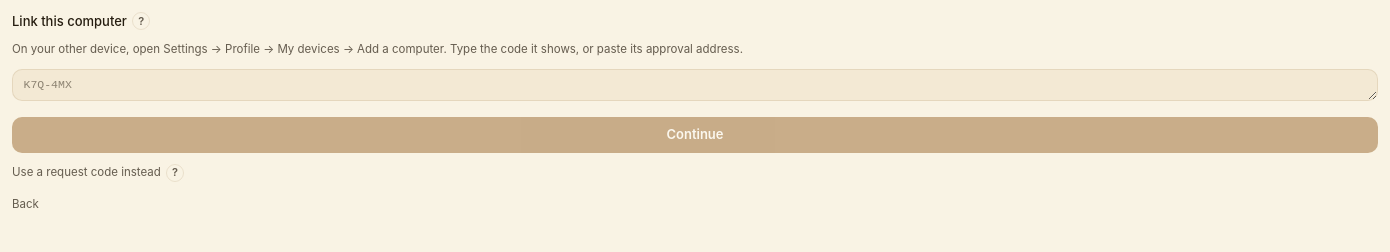
Scenario: LinkThisDevice › links with the short code the other device shows, on the community relay or another
The image size is (1390, 252).
Later steps or results of the test are not shown.
Type "k7q 4mx" into the text box named "The code or approval address from your other device" at (695, 85), box x1=12 y1=68 x2=1378 y2=101
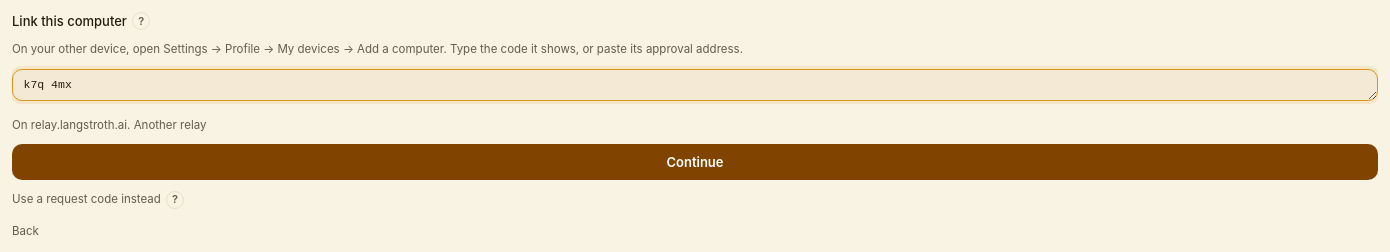
Check: the element with test id "link-relay" shows "On relay.langstroth.ai.", box x1=12 y1=117 x2=206 y2=133
Click the button "Continue" at (695, 162), box x1=12 y1=144 x2=1378 y2=180
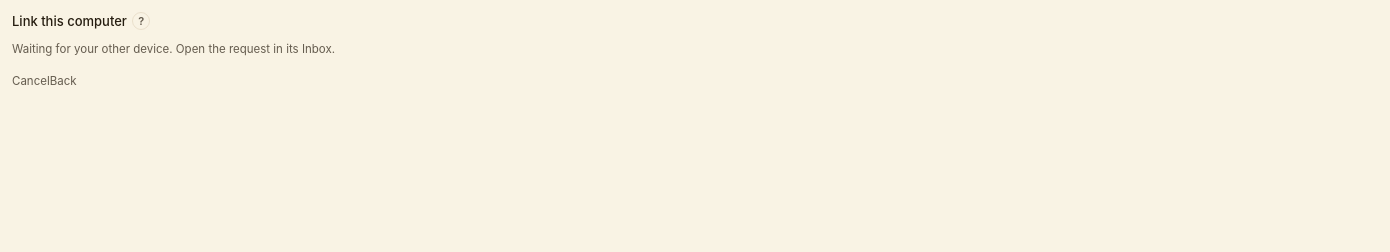
Check: the text with test id "link-waiting" is shown, box x1=12 y1=42 x2=335 y2=56
